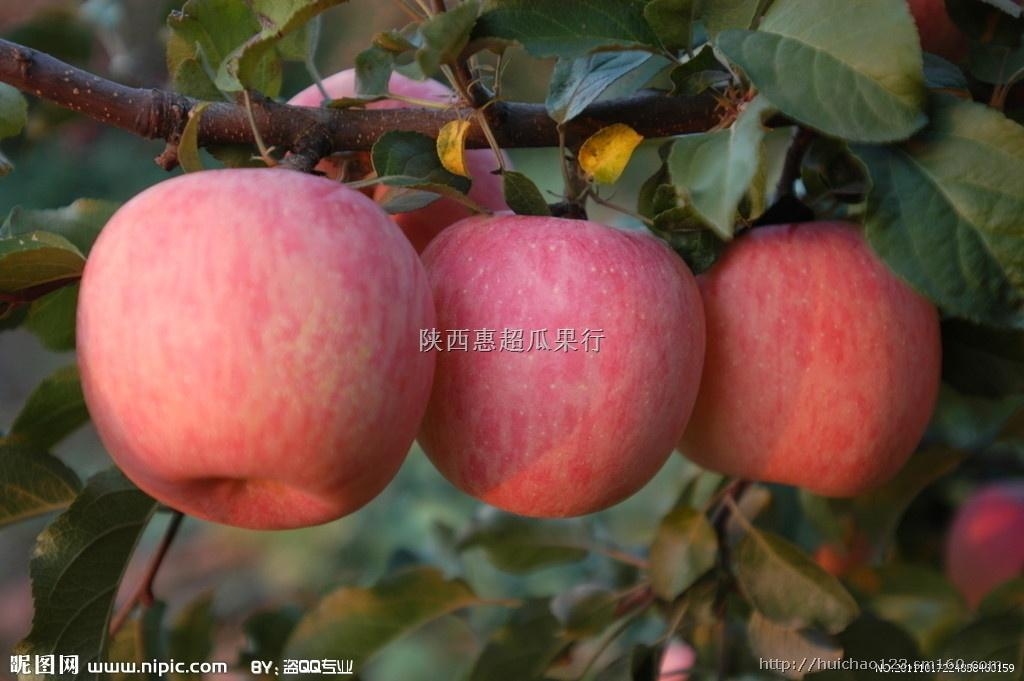apple: (75, 171, 440, 530), (408, 216, 705, 521), (688, 227, 942, 494)
